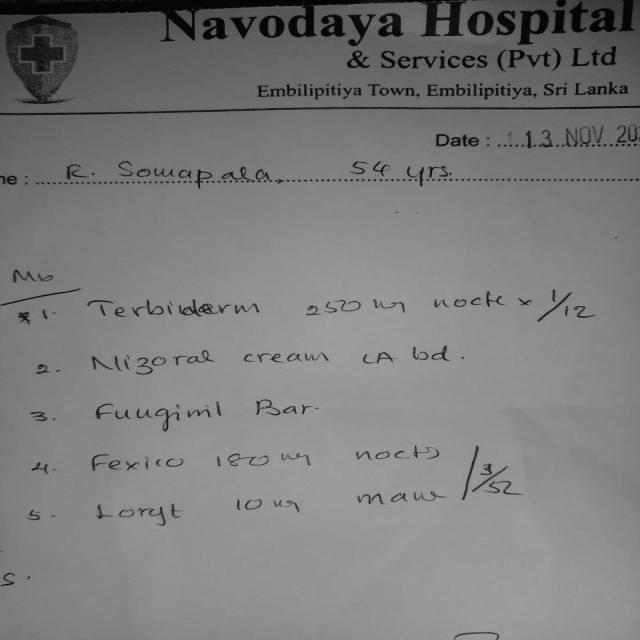Prescription: (91, 289, 599, 321), (86, 484, 451, 525), (87, 340, 453, 376), (90, 442, 442, 477), (92, 398, 314, 428)
